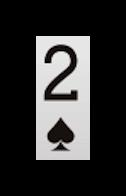2S: (40, 40, 84, 155)
